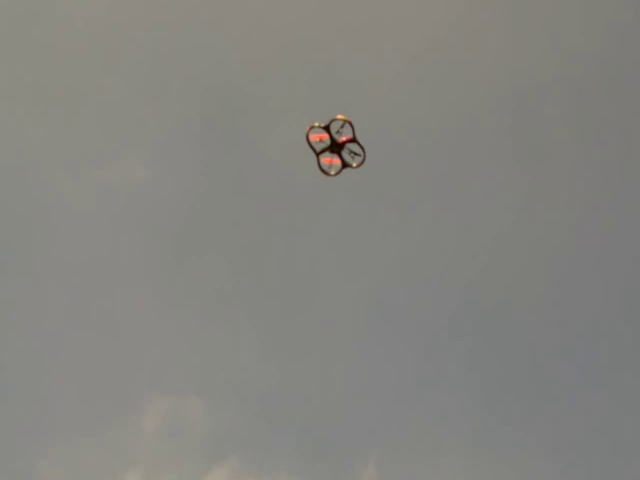drone: (304, 111, 368, 180)
